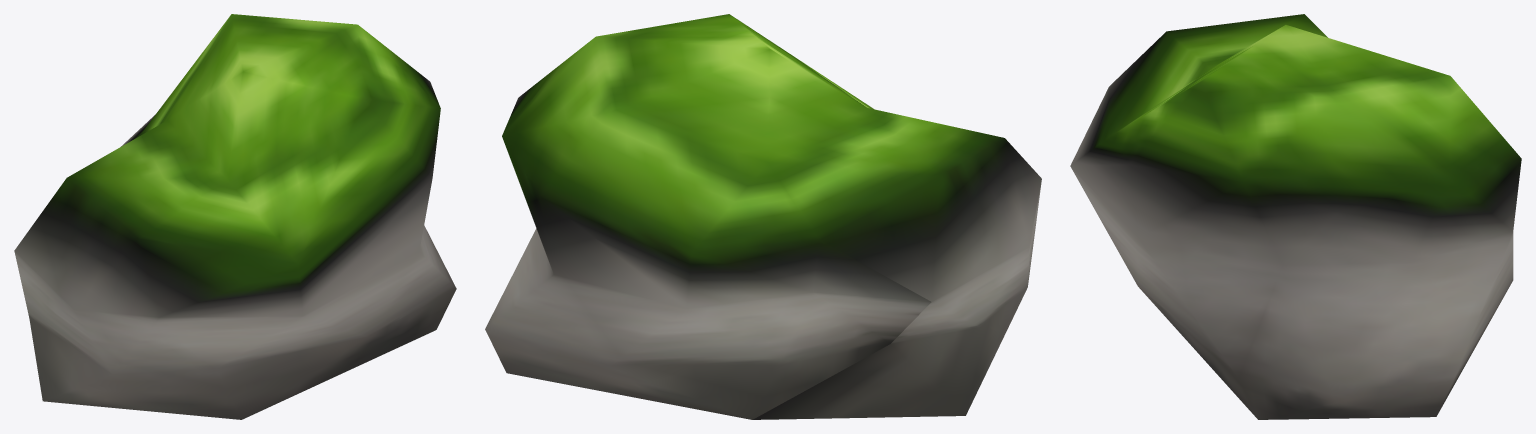
The model's file is rock_mossy.glb.
The picture shows the model from 3 angles, left to right: view 1: azimuth 30°, elevation 25°; view 2: azimuth 150°, elevation 25°; view 3: azimuth 270°, elevation 25°; orthographic projection. The views are drawn at different scales.
Visible parts, largest first — view 1: Box001.001; view 2: Box001.001; view 3: Box001.001.
Boxes of the visible parts, left/top/right/bottom form: Box001.001: left=14, top=14, right=456, bottom=419; Box001.001: left=485, top=14, right=1041, bottom=419; Box001.001: left=1070, top=14, right=1521, bottom=419.
Bounding box in the file's own units: 9.36 × 6.48 × 8.44.
1 material, 1 textured.
